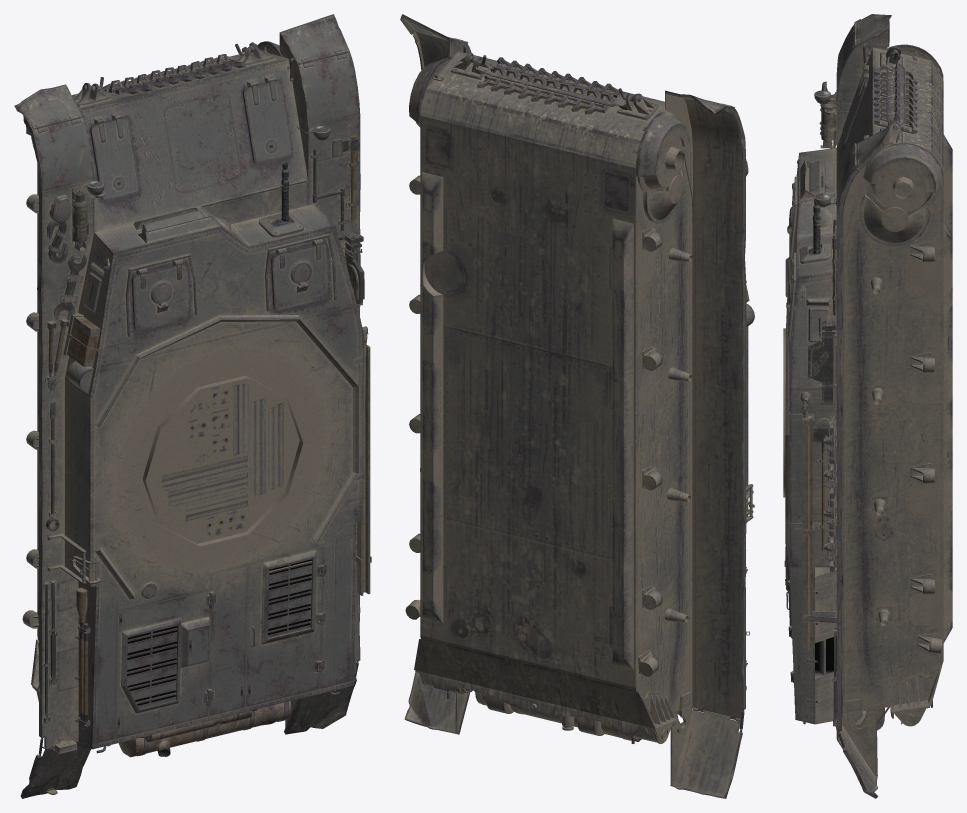
The model's file is Hull.glb.
3 renders of one model, left to right at view 1: azimuth 30°, elevation 25°; view 2: azimuth 150°, elevation 25°; view 3: azimuth 270°, elevation 25°, orthographic. The views are drawn at different scales.
Visible parts, largest first — view 1: set_0_group_0; view 2: set_0_group_0; view 3: set_0_group_0.
Part boxes in pixels (<box>): set_0_group_0: <box>14,14,371,798</box>; set_0_group_0: <box>400,14,754,798</box>; set_0_group_0: <box>783,14,952,798</box>.
Size of the model in its own units: 2.88 by 6 by 1.39.
Materials: 1 (1 with a texture image).
